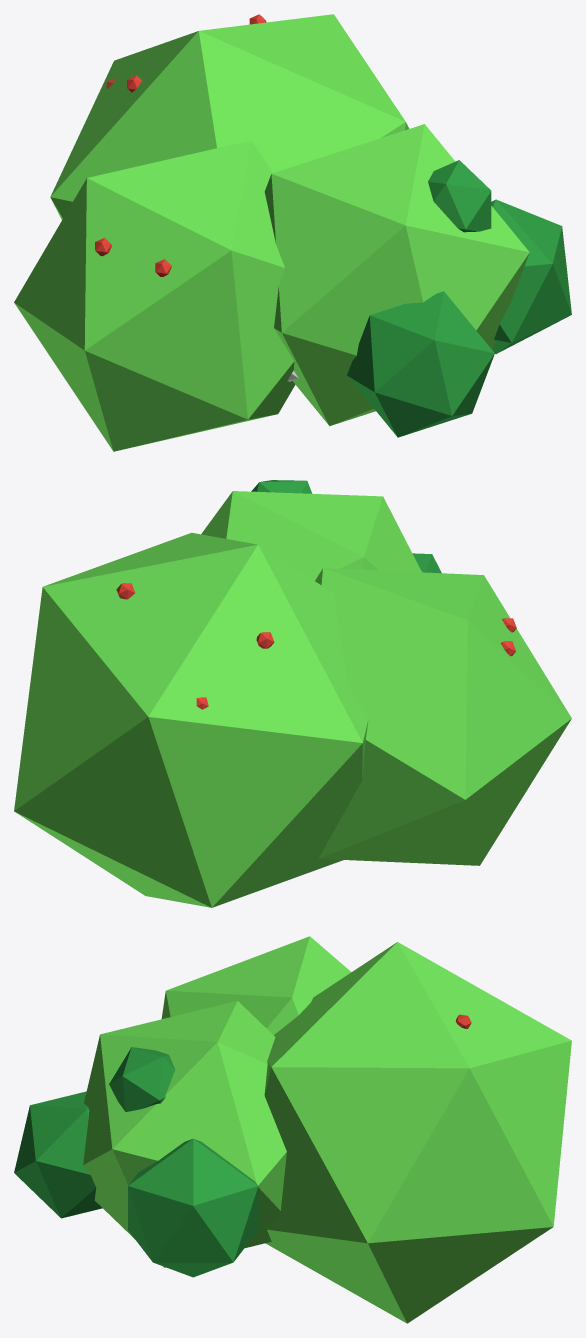
3 renders of one model, top to bottom at view 1: azimuth 30°, elevation 25°; view 2: azimuth 150°, elevation 25°; view 3: azimuth 270°, elevation 25°, orthographic. The views are drawn at different scales.
Parts seen in each view (by area): view 1: Icosphere.007, Icosphere.002, Icosphere.006, Icosphere.003, Icosphere.001, Icosphere.004; view 2: Icosphere.006, Icosphere.007, Icosphere.002, Icosphere.004; view 3: Icosphere.006, Icosphere.002, Icosphere.001, Icosphere.007, Icosphere.003, Icosphere.004.
Boxes of the visible parts, left/top/right/bottom form: Icosphere.007: left=14, top=140, right=295, bottom=451; Icosphere.002: left=264, top=124, right=529, bottom=426; Icosphere.006: left=50, top=14, right=409, bottom=219; Icosphere.003: left=347, top=291, right=494, bottom=437; Icosphere.001: left=491, top=199, right=571, bottom=353; Icosphere.004: left=428, top=160, right=491, bottom=232; Icosphere.006: left=14, top=532, right=368, bottom=907; Icosphere.007: left=315, top=568, right=571, bottom=865; Icosphere.002: left=201, top=491, right=421, bottom=580; Icosphere.004: left=251, top=480, right=312, bottom=493; Icosphere.006: left=264, top=942, right=571, bottom=1323; Icosphere.002: left=83, top=1000, right=286, bottom=1267; Icosphere.001: left=128, top=1138, right=258, bottom=1277; Icosphere.007: left=161, top=936, right=351, bottom=1035; Icosphere.003: left=14, top=1091, right=102, bottom=1218; Icosphere.004: left=109, top=1047, right=175, bottom=1111.
Bounding box in the file's own units: 632 × 487 × 735.
